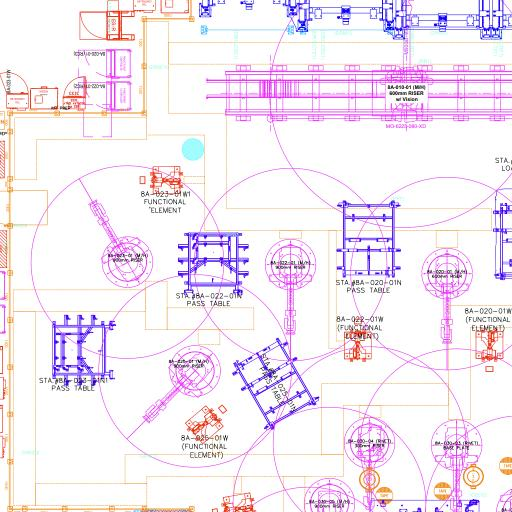robot: (138, 342, 222, 429), (87, 196, 157, 291), (263, 236, 318, 338), (420, 246, 475, 348), (429, 416, 485, 511), (343, 418, 396, 511)
